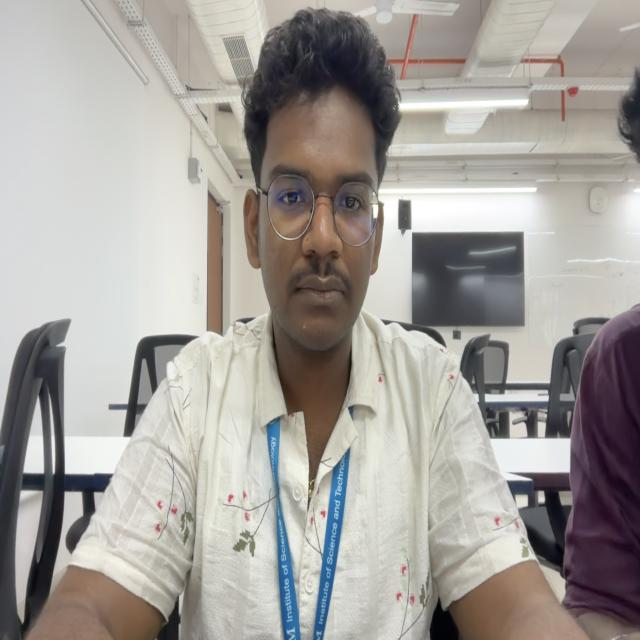sai: (241, 7, 404, 347)
